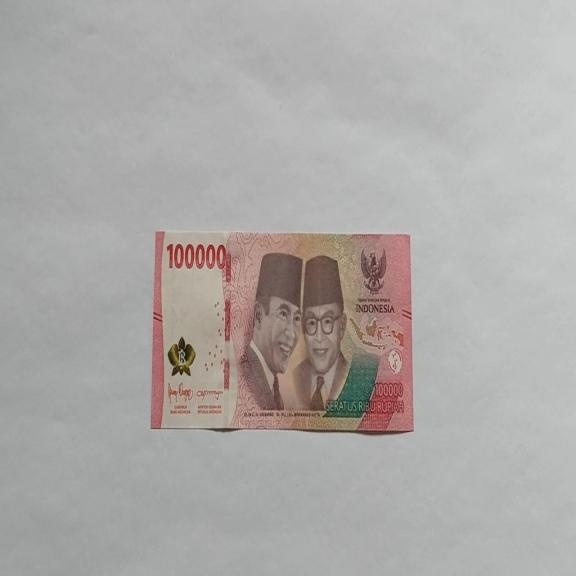Kertas: (150, 228, 414, 434)
